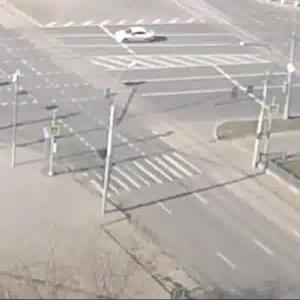car: (113, 26, 157, 47)
